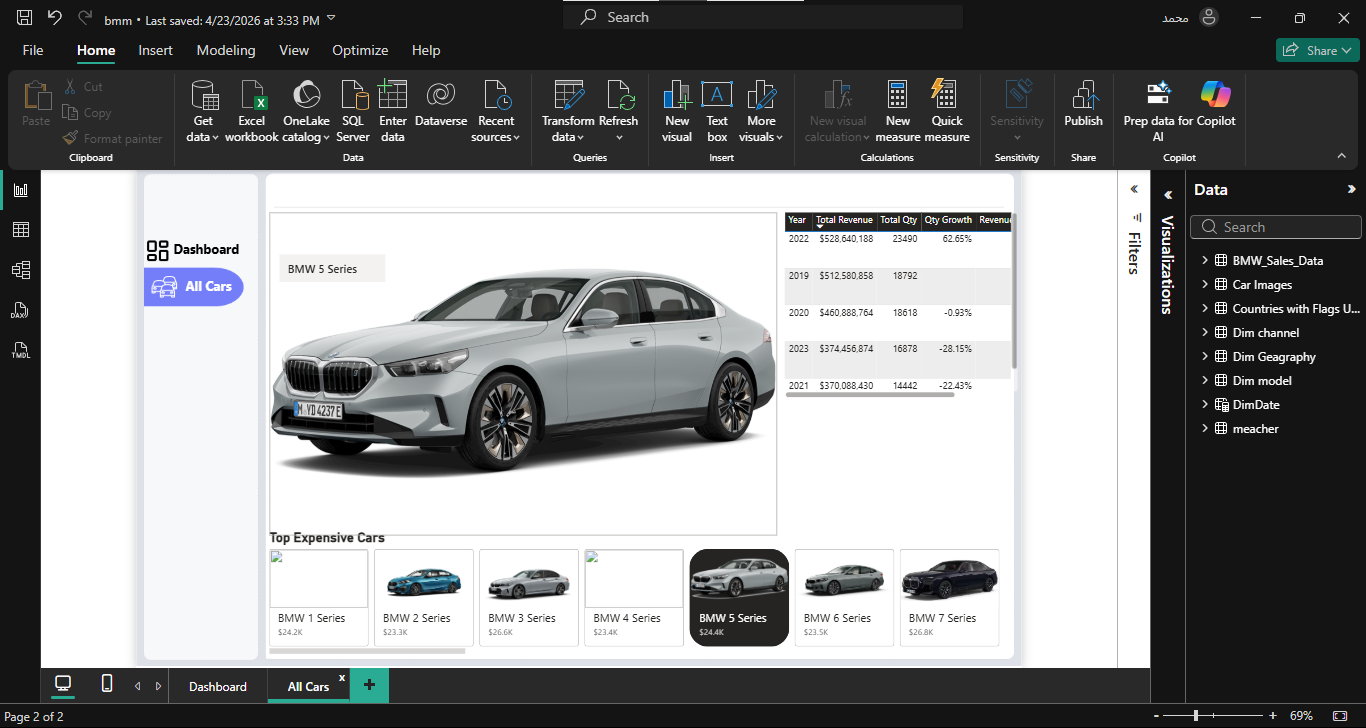

The page's visual inventory and layout, read from the dashboard file:
{"tool":"powerbi","page":{"name":"All Cars","canvas":[1280,720],"ordinal":1},"visuals":[{"type":"advancedSlicerVisual","title":"Top Expensive Cars","fields":{"Values":["Dim model.Model"]},"box":[187.7,520,1067.7,186.2],"z":0},{"type":"advancedSlicerVisual","title":"Top Expensive Cars","fields":{"Values":["Dim model.Model"]},"box":[188,56.4,744.6,477.1],"z":1000},{"type":"image","box":[12.3,96.9,36.9,40],"z":2000},{"type":"textbox","box":[49.2,96.9,124.6,40],"z":3000},{"type":"textbox","box":[66.2,150.8,96.9,47.7],"z":4000},{"type":"image","box":[13.8,150.8,52.3,36.9],"z":5000},{"type":"actionButton","box":[12.3,86.2,150.8,50.8],"z":6000},{"type":"tableEx","fields":{"Values":["DimDate.Year","meacher.Total Revenue","meacher.Total Qty","meacher.Qty Growth","meacher.Revenue Growth Arrow%"]},"box":[909.4,341.2,370.1,166.3],"z":7000},{"type":"cardVisual","fields":{"Rows":["Dim model.Model"]},"box":[202.4,96.9,163.4,167.7],"z":7001}]}

Visuals, with their boxes on the page's 1280x720 design canvas (x1, y1, x2, y2). These are canvas units, not pixel positions in the 1366x728 screenshot, which may show the page scaled, cropped or inside an application window:
"Top Expensive Cars" advancedSlicerVisual: [188,520,1255,706]
"Top Expensive Cars" advancedSlicerVisual: [188,56,933,534]
image: [12,97,49,137]
textbox: [49,97,174,137]
textbox: [66,151,163,198]
image: [14,151,66,188]
actionButton: [12,86,163,137]
tableEx - DimDate.Year x meacher.Total Revenue: [909,341,1280,508]
cardVisual - Dim model.Model: [202,97,366,265]
